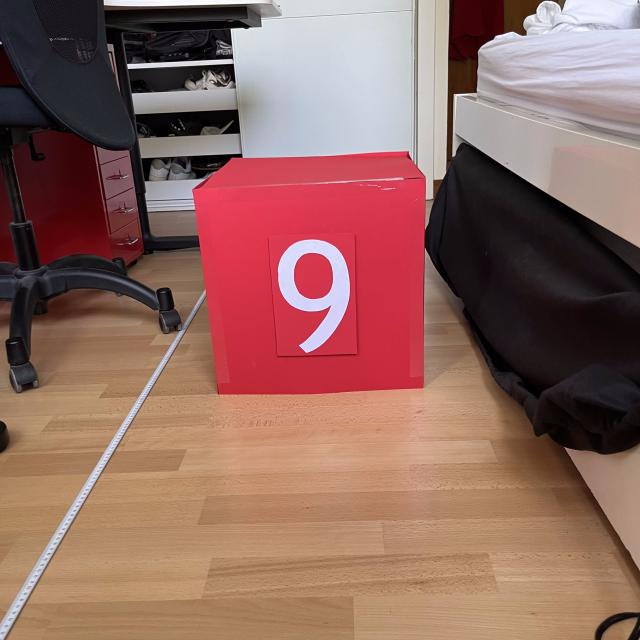box: (189, 148, 430, 398)
